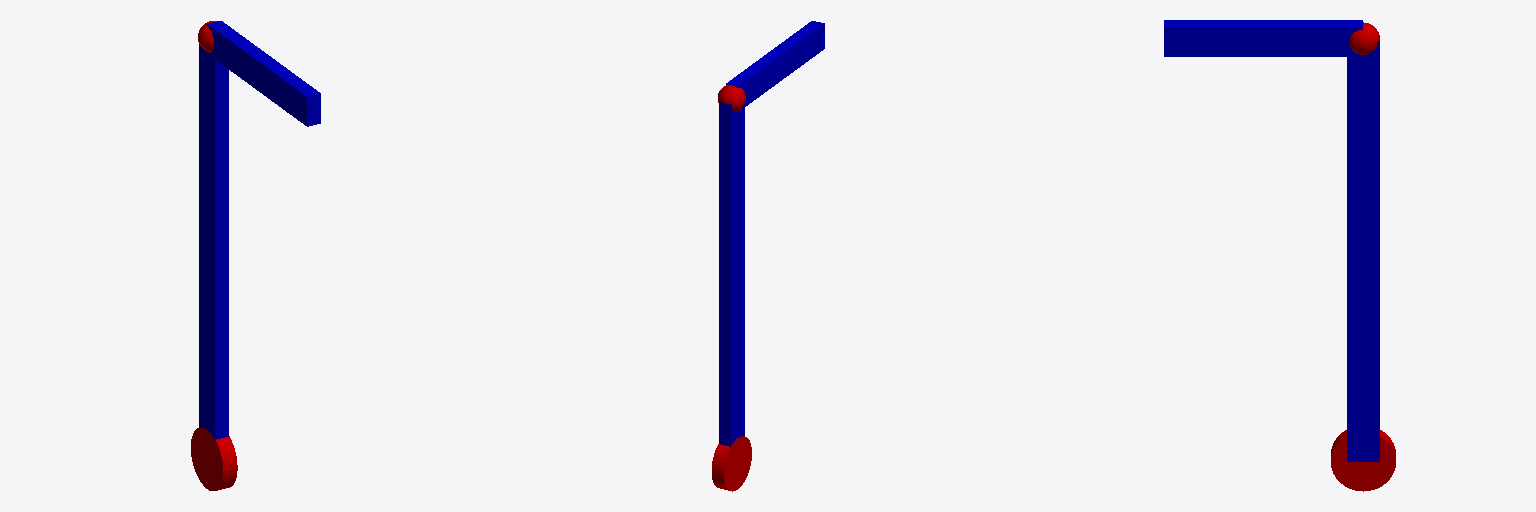
URDF robot description (TwoLinkStruct6911138478):
<?xml version="1.0"?>
<robot  name="TwoLinkStruct6911138478" >
 <material  name="blue" >
  <color  rgba="0 0 0.8 1.0" />
 </material>
 <material  name="red" >
  <color  rgba="0.8 0 0 1.0" />
 </material>
 <link  name="base_link" >
  <visual >
   <origin  rpy="0 1.5707 0"  xyz="0 0 0" />
   <material  name="red" />
   <geometry >
    <cylinder  length="0.05"  radius="0.1" />
   </geometry>
  </visual>
 </link>
 <joint  type="revolute"  name="joint1" >
  <parent  link="base_link" />
  <child  link="link1" />
  <origin  xyz="0 0 0"  rpy="0 0 0" />
  <axis  xyz="1 0 0" />
 </joint>
 <link  name="link1" >
  <inertial >
   <origin  rpy="0 0 0"  xyz="0 0 0.7078970657544321" />
   <mass  value="7.351611105165597" />
   <inertia  ixy="0.0"  iyy="0.0030631712938189995"  izz="1.2295404301911728"  ixz="0.0"  ixx="1.2295404301911728"  iyz="0.0" />
  </inertial>
  <visual >
   <origin  rpy="0 0 0"  xyz="0 0 0.7078970657544321" />
   <material  name="blue" />
   <geometry >
    <box  size="0.05 0.1 1.4157941315088642" />
   </geometry>
  </visual>
 </link>
 <joint  type="fixed"  name="joint-joint-1" >
  <parent  link="link1" />
  <child  link="joint-link-1" />
  <origin  xyz="0 0 1.4157941315088642"  rpy="1.5707 0 0" />
  <axis  xyz="1 0 0" />
 </joint>
 <link  name="joint-link-1" >
  <inertial >
   <origin  rpy="0 0 0"  xyz="0 0 0" />
   <mass  value="0.23648673445926244" />
   <inertia  ixy="0"  iyy="0"  izz="0"  ixz="0"  ixx="0"  iyz="0" />
  </inertial>
  <visual >
   <origin  rpy="0 0 0"  xyz="0 0 0" />
   <material  name="red" />
   <geometry >
    <sphere  radius="0.05" />
   </geometry>
  </visual>
 </link>
 <joint  type="revolute"  name="joint2" >
  <parent  link="link1" />
  <child  link="link2" />
  <origin  xyz="0 0 1.4157941315088642"  rpy="1.5707 0 0" />
  <axis  xyz="1 0 0" />
 </joint>
 <link  name="link2" >
  <inertial >
   <origin  rpy="0 0 0"  xyz="0 0 0.305048893956017" />
   <mass  value="1.6908825956834697" />
   <inertia  ixy="0.0"  iyy="0.0030631712938189995"  izz="0.22956588722572568"  ixz="0.0"  ixx="0.22956588722572568"  iyz="0.0" />
  </inertial>
  <visual >
   <origin  rpy="0 0 0"  xyz="0 0 0.305048893956017" />
   <material  name="blue" />
   <geometry >
    <box  size="0.05 0.1 0.610097787912034" />
   </geometry>
  </visual>
 </link>
 <joint  type="fixed"  name="eef_joint" >
  <parent  link="link2" />
  <child  link="eef" />
  <origin  xyz="0 0 0.610097787912034"  rpy="0 0 0" />
 </joint>
 <link  name="eef" >
  <inertial >
   <origin  rpy="0 0 0"  xyz="0 0 0" />
   <mass  value="1" />
   <inertia  ixy="0"  iyy="0"  izz="0"  ixz="0"  ixx="0"  iyz="0" />
  </inertial>
 </link>
 <transmission  name="motor1" >
  <type  xmltext="SimpleTransmission" >
   SimpleTransmission
  </type>
  <actuator  name="motor1" >
   <mechanicalreduction  xmltext="1" >
    1
   </mechanicalreduction>
  </actuator>
  <joint  name="joint1" />
 </transmission>
 <transmission  name="motor2" >
  <type  xmltext="SimpleTransmission" >
   SimpleTransmission
  </type>
  <actuator  name="motor2" >
   <mechanicalreduction  xmltext="1" >
    1
   </mechanicalreduction>
  </actuator>
  <joint  name="joint2" />
 </transmission>
</robot>

<!-- {'carti': array([-0.1 ,  0.14,  0.85]), 'cartd': array([-0.1 ,  0.32,  1.29]), 'tau_mu': 0.6553986654919903, 'b0': 0.6318248684361778, 'Km': 4.962370885194611, 'k_velocity': 20.273279931788178, 'tau_max_m': 3.731805394269443, 'omega_max_m': 4564.296420959521, 'gear_ratio': 9.303089694251677, 'Kp': 92.32745312296606, 'Kd': 62.03258042350392, 'm_m': 0.23648673445926244, 'l1': 1.4157941315088642, 'l2': 0.610097787912034, 'k1': 20379.27208001047, 'k2': 113935204.5384497, 'k3': 329917835.5303244}-->

--- Facts derived from the render (not from the file) ---
3 views of the same robot in one strip: view 1: azimuth 30°, elevation 25°; view 2: azimuth 150°, elevation 25°; view 3: azimuth 270°, elevation 25° (orthographic).
Model TwoLinkStruct6911138478 with 5 links and 4 joints (2 revolute, 2 fixed), rooted at base_link, posed all joints at 0.
Visible links, largest first — view 1: link1, link2, base_link; view 2: link1, link2, base_link; view 3: link1, link2, base_link, joint-link-1.
Link boxes in pixels (x1=…): link1: x1=199, y1=44, x2=228, y2=439; link2: x1=207, y1=21, x2=320, y2=126; base_link: x1=191, y1=428, x2=237, y2=490; link1: x1=719, y1=101, x2=744, y2=446; link2: x1=726, y1=21, x2=824, y2=110; base_link: x1=712, y1=436, x2=751, y2=491; link1: x1=1347, y1=35, x2=1379, y2=461; link2: x1=1164, y1=20, x2=1362, y2=56; base_link: x1=1331, y1=430, x2=1395, y2=491; joint-link-1: x1=1349, y1=22, x2=1379, y2=54.
Size in the robot's own frame: 0.1 by 0.7101 by 1.57 metres.
Geometry: primitives only (box / cylinder / sphere), no mesh files.
